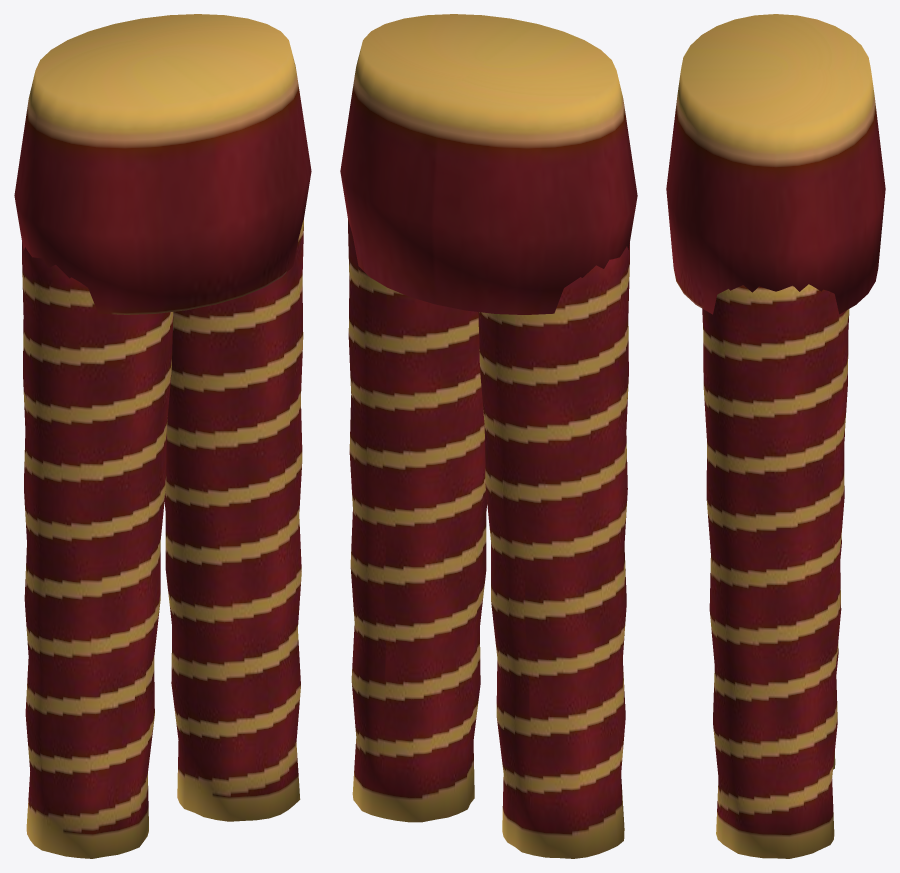
Rendered from crimson_wraps_legs.glb.
3 renders of one model, left to right at view 1: azimuth 30°, elevation 25°; view 2: azimuth 150°, elevation 25°; view 3: azimuth 270°, elevation 25°, orthographic. The views are drawn at different scales.
Parts seen in each view (by area): view 1: crimson_wraps_legs; view 2: crimson_wraps_legs; view 3: crimson_wraps_legs.
Boxes of the visible parts, x1,y1,x2,y2 form: crimson_wraps_legs: [14, 14, 311, 858]; crimson_wraps_legs: [340, 14, 637, 858]; crimson_wraps_legs: [666, 14, 885, 858].
Size of the model in its own units: 0.21 by 0.55 by 0.15.
Materials: 1 (1 with a texture image).
